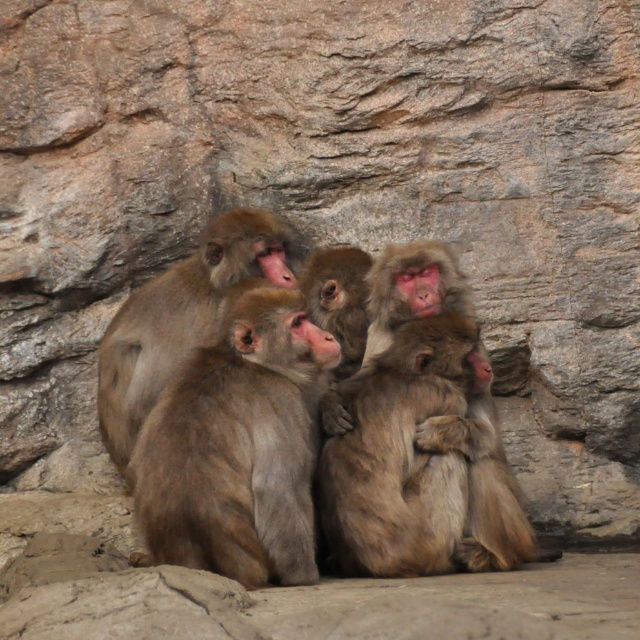Monkey: (98, 209, 564, 591)
